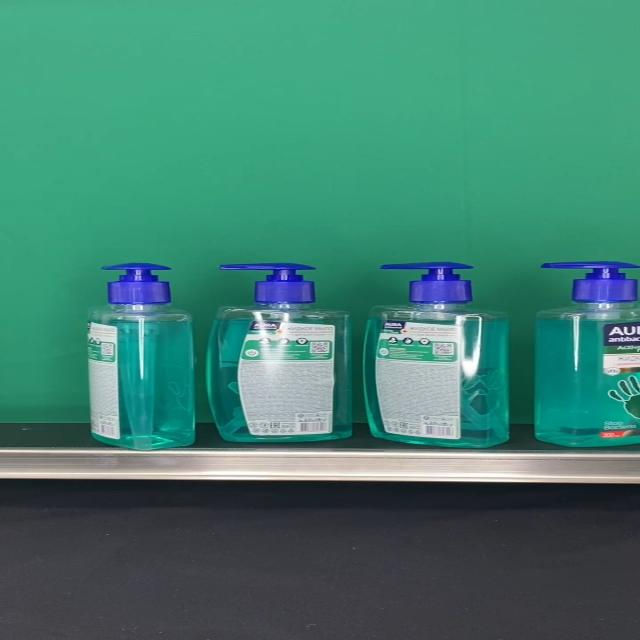Bottle: (363, 262, 509, 448), (206, 263, 353, 443), (85, 262, 196, 451), (536, 261, 640, 447)
Cap: (540, 262, 640, 304), (217, 263, 316, 305), (379, 262, 474, 304), (102, 263, 173, 304)
